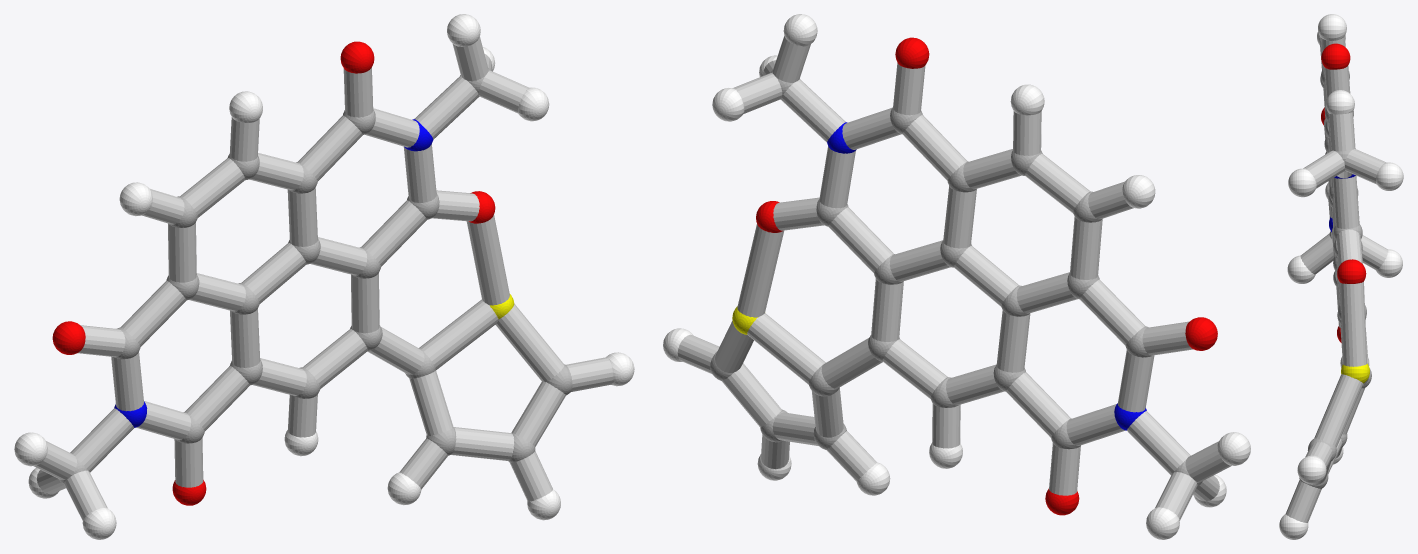
The model's file is Dimethyl_Naphthalene_Dicarboximide_Phi_25_Theta_170_Thiophene.glb.
3 renders of one model, left to right at view 1: azimuth 30°, elevation 25°; view 2: azimuth 150°, elevation 25°; view 3: azimuth 270°, elevation 25°, orthographic. The views are drawn at different scales.
Visible parts, largest first — view 1: grp14119, grp7241, grp1, grp12309, grp11585; view 2: grp14119, grp7241, grp1, grp12309, grp11585; view 3: grp14119, grp7241, grp12309, grp1, grp13757.
Boxes of the visible parts, x1=… form: grp14119: x1=33, y1=36, x2=613, y2=520; grp7241: x1=14, y1=14, x2=634, y2=539; grp1: x1=59, y1=68, x2=572, y2=483; grp12309: x1=52, y1=41, x2=495, y2=505; grp11585: x1=114, y1=119, x2=433, y2=427; grp14119: x1=677, y1=36, x2=1231, y2=520; grp7241: x1=663, y1=14, x2=1250, y2=539; grp1: x1=710, y1=70, x2=1202, y2=486; grp12309: x1=756, y1=37, x2=1217, y2=515; grp11585: x1=827, y1=122, x2=1146, y2=430; grp14119: x1=1285, y1=36, x2=1388, y2=522; grp7241: x1=1279, y1=14, x2=1403, y2=539; grp12309: x1=1321, y1=43, x2=1366, y2=342; grp1: x1=1299, y1=69, x2=1371, y2=488; grp13757: x1=1341, y1=363, x2=1369, y2=383.
Size of the model in its own units: 12.24 by 9.7 by 2.57.
